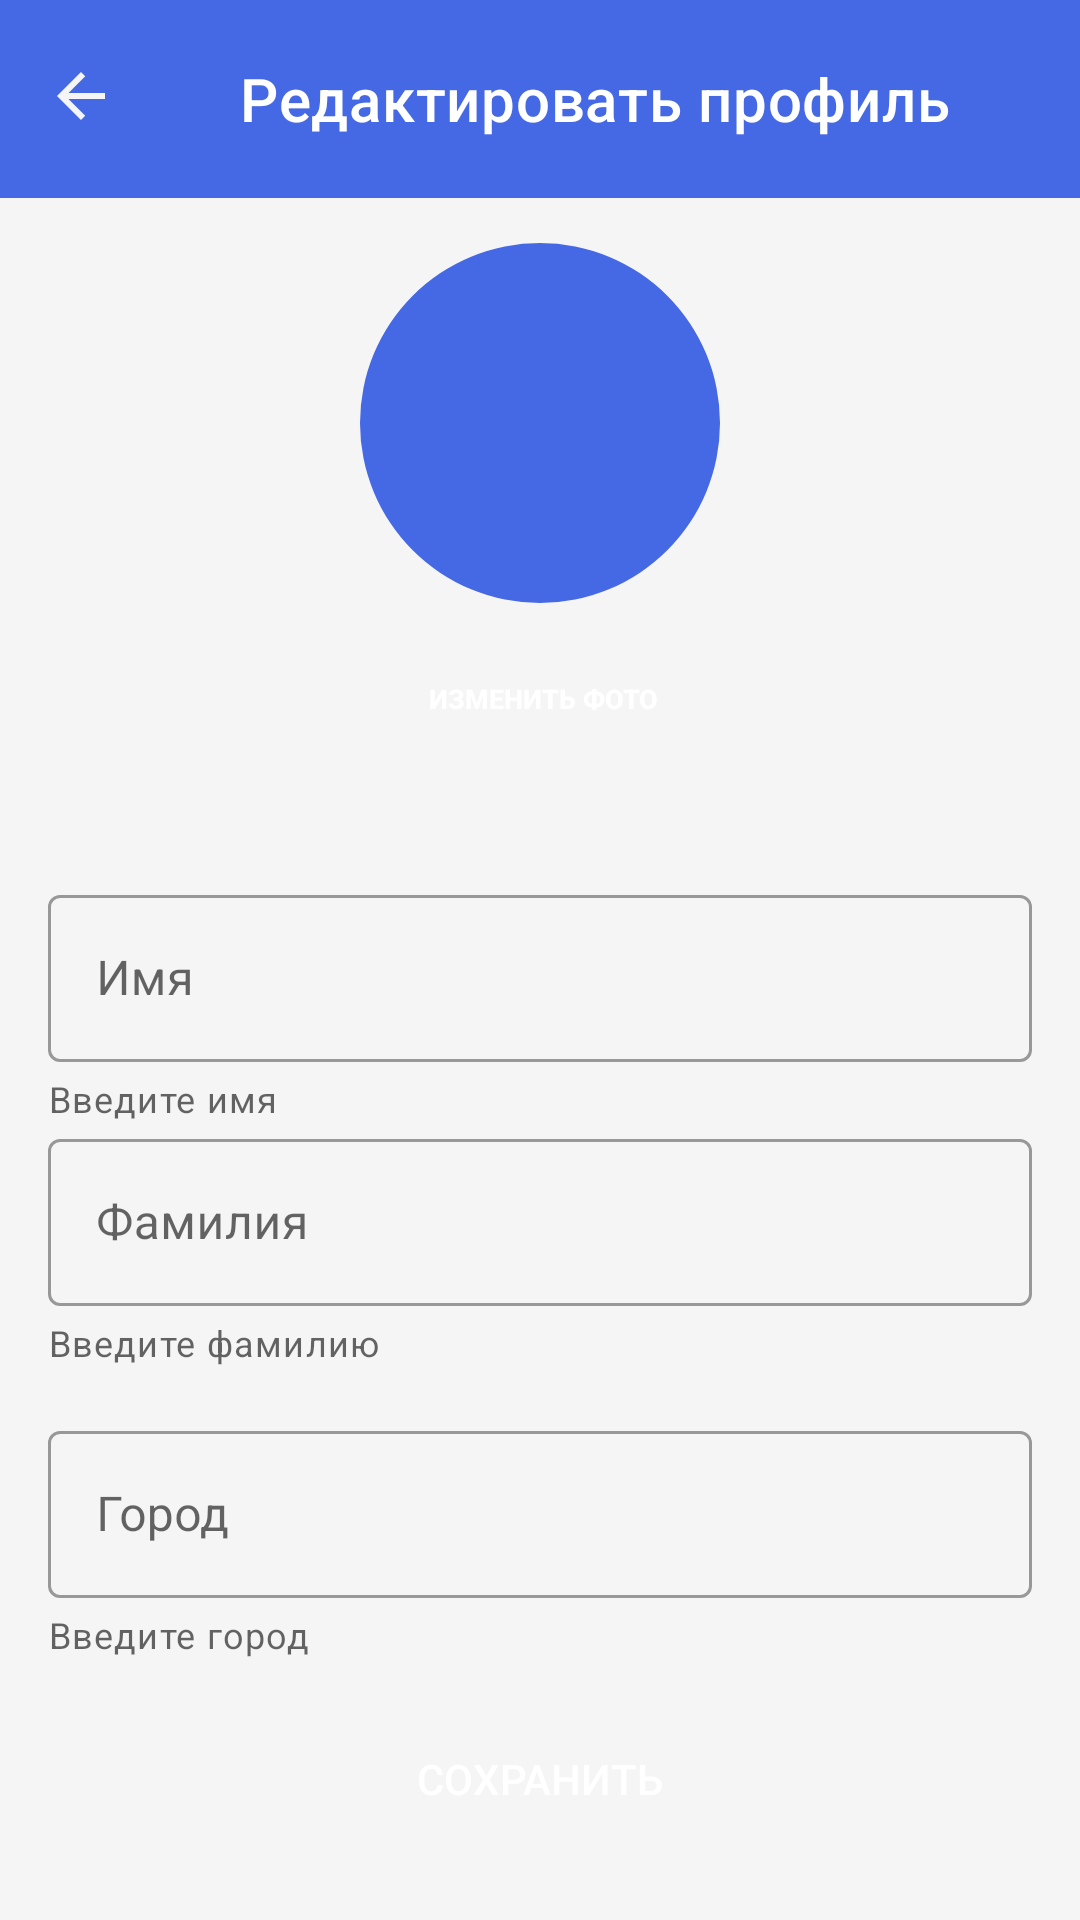

Named icons in this screenshot (1080 x 1920) and their bounding boxes, (x1, y1, x2, y2):
arrow back: (57, 72, 105, 120)
